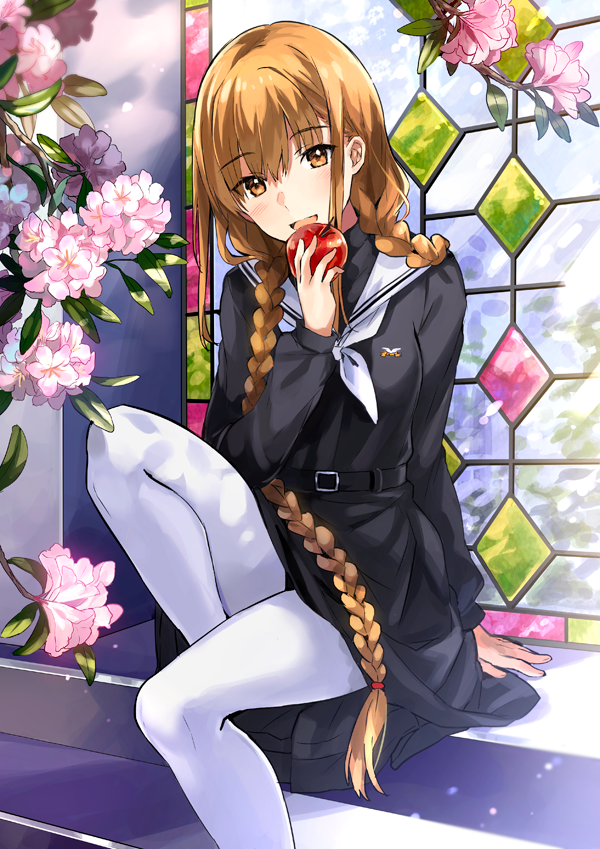纸片人正脸: (188, 14, 406, 255)
